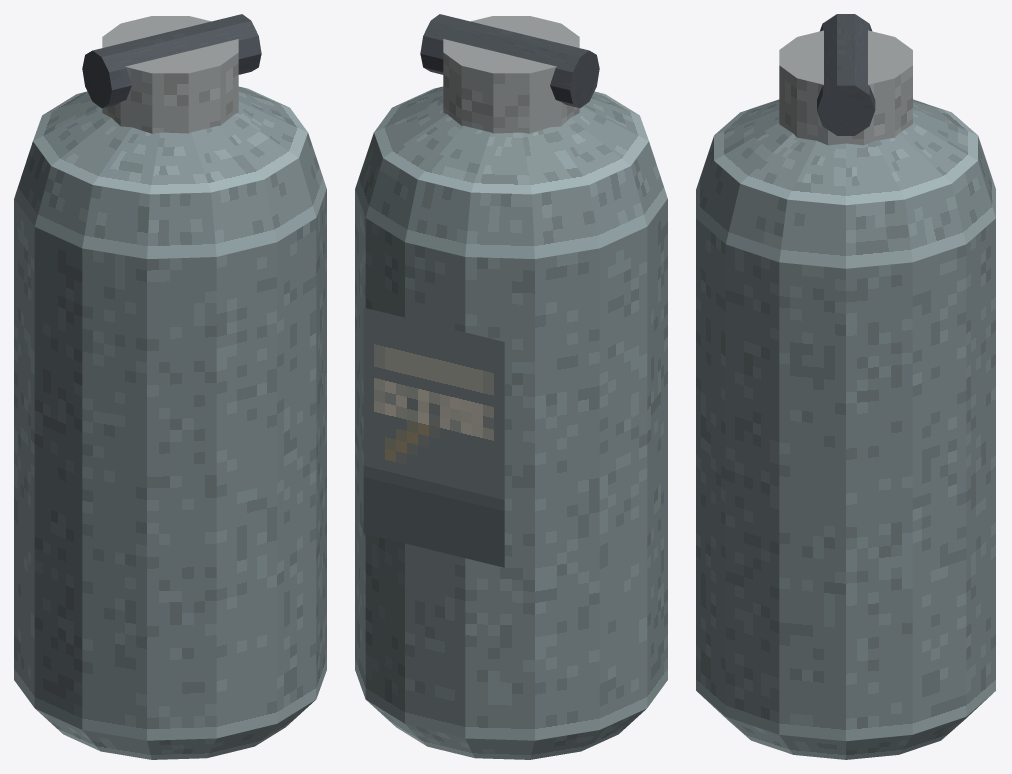
File: small_scuba_tank.glb
3 views of the same model, side by side, from view 1: azimuth 30°, elevation 25°; view 2: azimuth 150°, elevation 25°; view 3: azimuth 270°, elevation 25° (orthographic).
Parts seen in each view (by area): view 1: block_gas cylinder, block_valve collar, block_external valve wheel; view 2: block_gas cylinder, block_cylinder markings, block_valve collar, block_external valve wheel; view 3: block_gas cylinder, block_valve collar, block_external valve wheel.
Boxes of the visible parts, x1,y1,x2,y2 form: block_gas cylinder: (14, 86, 326, 759); block_valve collar: (102, 16, 238, 133); block_external valve wheel: (82, 14, 261, 108); block_gas cylinder: (355, 86, 667, 759); block_cylinder markings: (363, 307, 504, 567); block_valve collar: (443, 16, 579, 133); block_external valve wheel: (420, 14, 599, 108); block_gas cylinder: (696, 99, 995, 759); block_valve collar: (779, 30, 912, 145); block_external valve wheel: (817, 14, 875, 135).
Size of the model in its own units: 0.1812 by 0.4286 by 0.1777.
2 materials, 2 textured.
